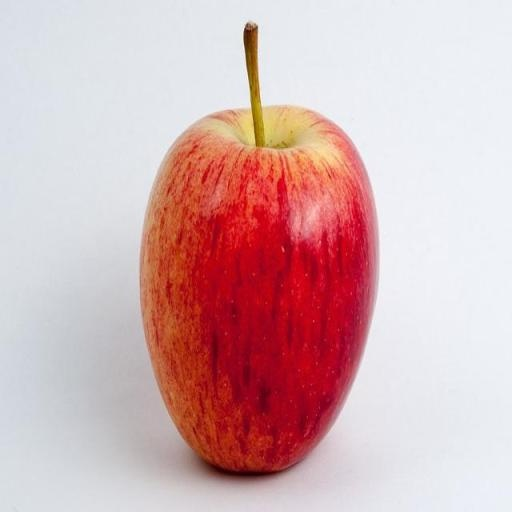fruit: (140, 107, 376, 471)
